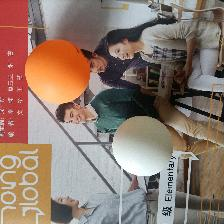WhiteBall: (111, 115, 173, 176)
YellowBall: (22, 38, 90, 104)
